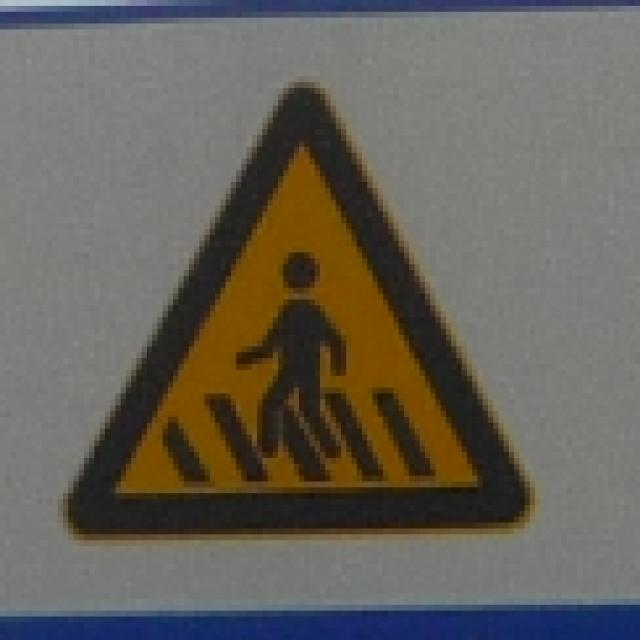Crossing: (54, 67, 546, 534)
